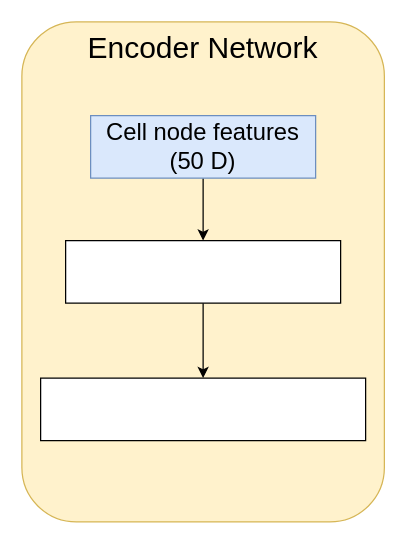
This 406x544 diagram has some shape labels left out. Here are the shapes that lost their labels. From the top down, the centre of each, then its label:
At point (202, 271): "(1) GCN layer (200 D)".
At point (202, 409): "(2) Linear layer (300 D)".
